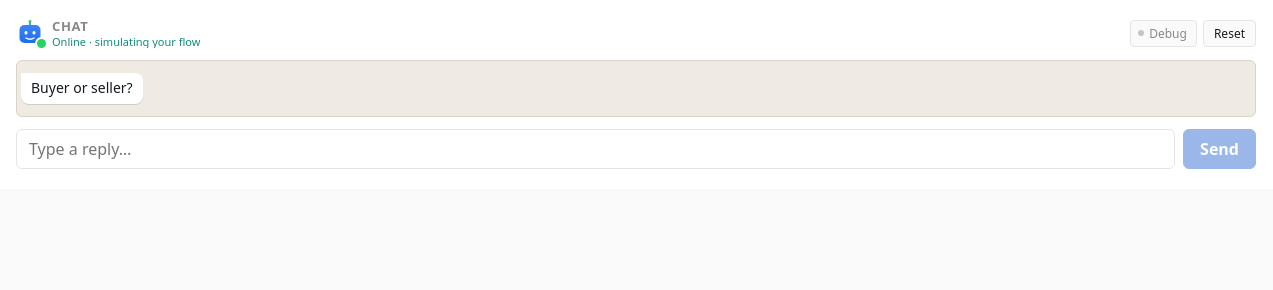
Scenario: ChatPanel › debug toggle (designer-only step trace) › reveals the step trace with branch + handoff lines after toggling Debug on
Click the button with test id "chat-debug-toggle" at (1164, 33), box [1130,20,1197,47]
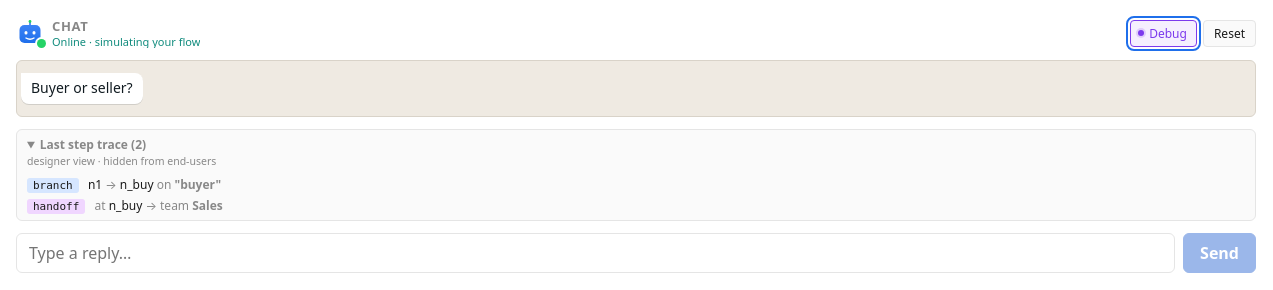
Result: the element with test id "chat-events" shows "branch" at [33,179,73,192]
Result: the element with test id "chat-events" shows "n1 → n_buy" at [16,129,1256,221]
Result: the element with test id "chat-events" shows "handoff" at [33,200,79,213]
